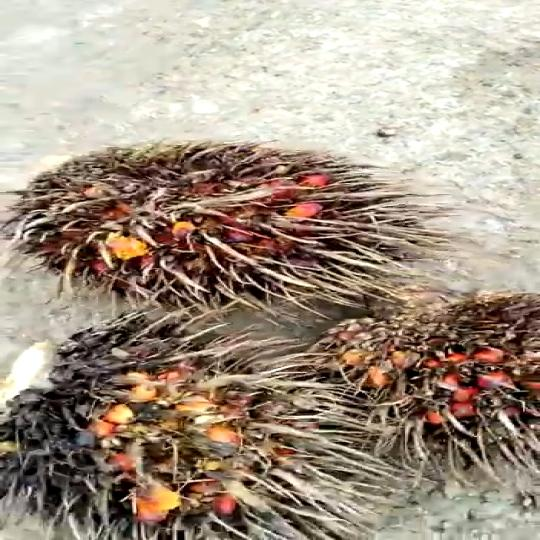terlalu masak: (0, 307, 358, 540), (0, 134, 431, 314), (297, 294, 540, 452)
